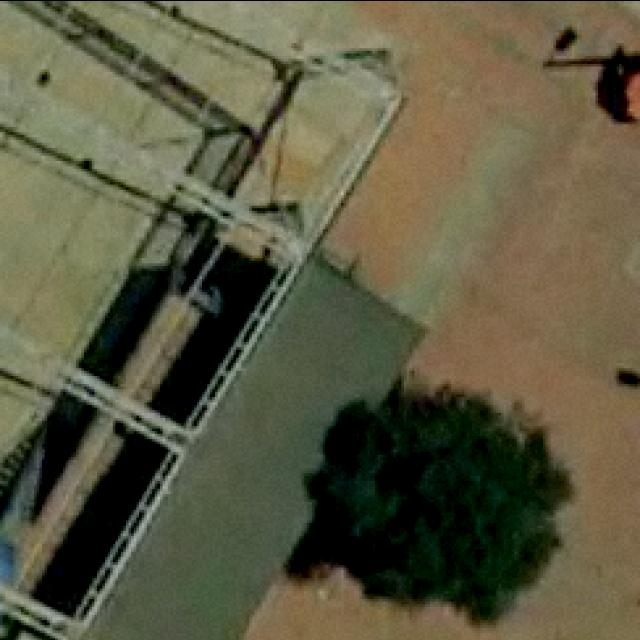vendedor_ambulante: (619, 65, 640, 124)
